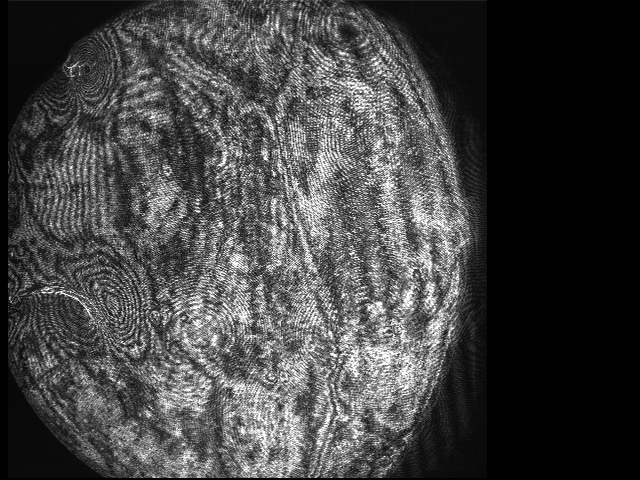plume: (42, 264, 148, 349), (32, 29, 125, 120)
